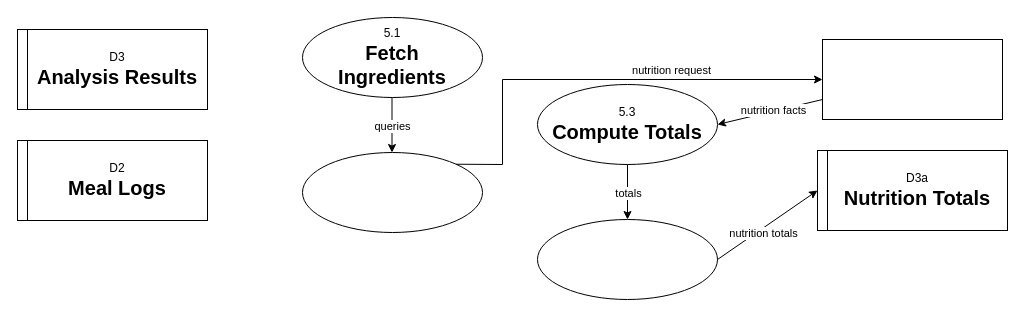
This 1025x317 diagram has some shape labels left out. Here are the shapes that lost their labels. From the top down, the centre of each, then its label:
At pixel 912 79: "E4 Nutrition Data API".
At pixel 392 192: "5.2 Query Nutrition API".
At pixel 627 259: "5.4 Store Nutrition Results".
